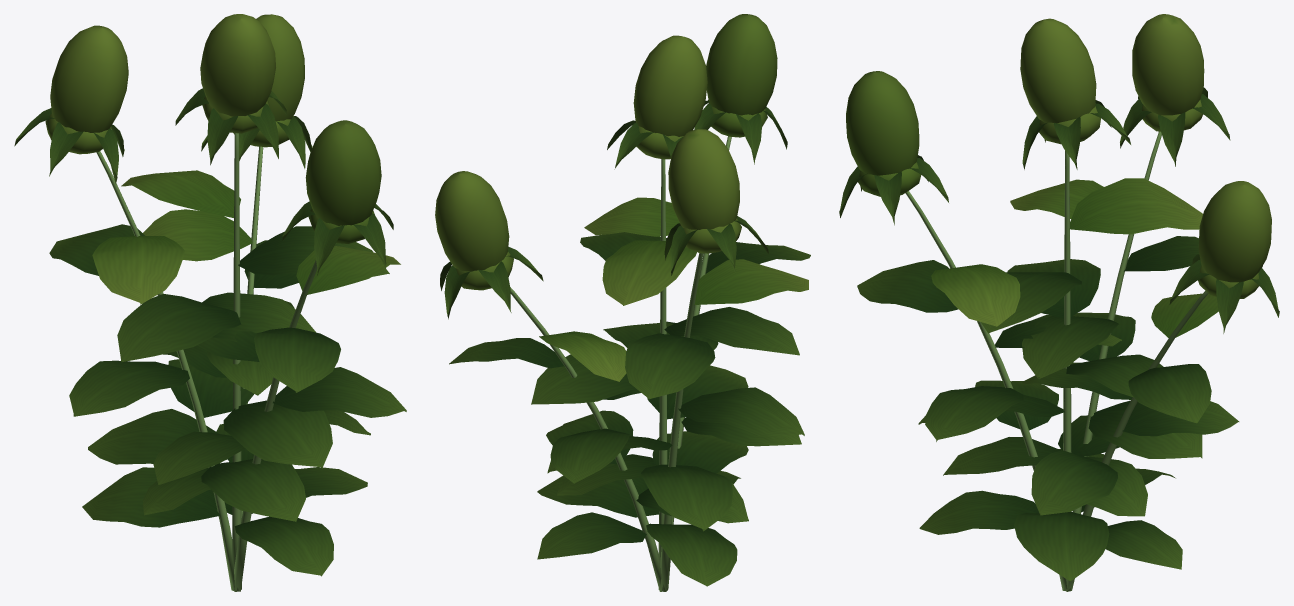
The model's file is poppy-07-lod.glb.
The picture shows the model from 3 angles, left to right: view 1: azimuth 30°, elevation 25°; view 2: azimuth 150°, elevation 25°; view 3: azimuth 270°, elevation 25°; orthographic projection. The views are drawn at different scales.
Parts seen in each view (by area): view 1: poppy_stage_07_leaf_veins.013, poppy_stage_07_young_leaf.013, poppy_stage_07_stem_fibres.013; view 2: poppy_stage_07_leaf_veins.013, poppy_stage_07_young_leaf.013, poppy_stage_07_stem_fibres.013; view 3: poppy_stage_07_leaf_veins.013, poppy_stage_07_young_leaf.013, poppy_stage_07_stem_fibres.013.
Part boxes in pixels (x1,y1,x2,y2): poppy_stage_07_leaf_veins.013: (14,88,406,576); poppy_stage_07_young_leaf.013: (45,14,400,304); poppy_stage_07_stem_fibres.013: (96,133,317,591); poppy_stage_07_leaf_veins.013: (440,100,810,586); poppy_stage_07_young_leaf.013: (435,14,808,381); poppy_stage_07_stem_fibres.013: (510,136,731,591); poppy_stage_07_leaf_veins.013: (839,87,1279,581); poppy_stage_07_young_leaf.013: (846,14,1271,337); poppy_stage_07_stem_fibres.013: (905,131,1208,591).
Size of the model in its own units: 0.2775 by 0.4863 by 0.3432.
3 materials, 2 textured.
